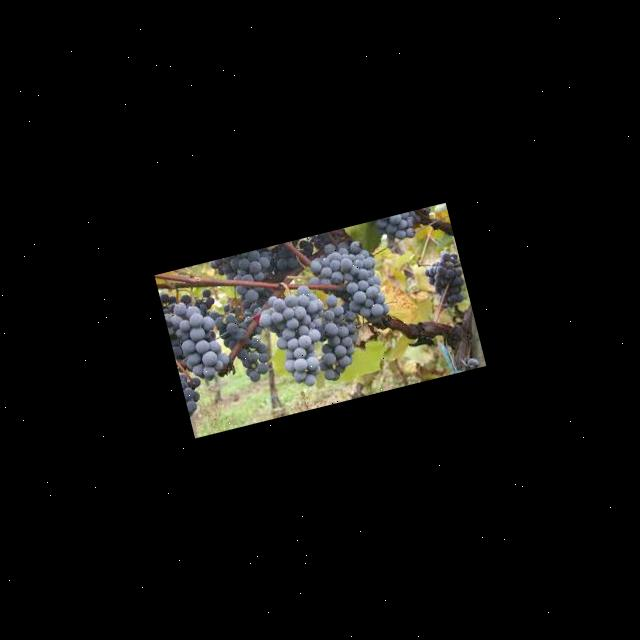grape: (420, 247, 470, 308)
